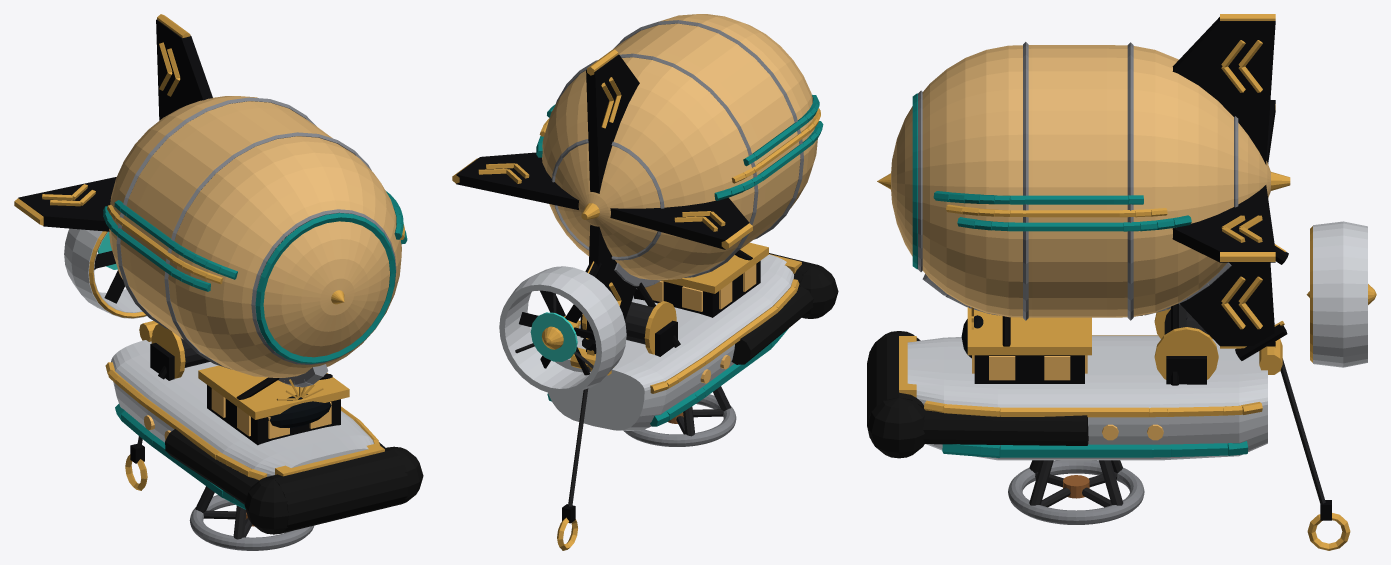
File: tug.obj
The picture shows the model from 3 angles, left to right: view 1: azimuth 30°, elevation 25°; view 2: azimuth 150°, elevation 25°; view 3: azimuth 270°, elevation 25°; orthographic projection. The views are drawn at different scales.
Visible parts, largest first — view 1: tug; view 2: tug; view 3: tug.
Boxes of the visible parts, x1,y1,x2,y2 form: tug: (14,14,423,550); tug: (452,14,838,550); tug: (867,14,1376,550).
Size of the model in its own units: 57.75 by 93 by 80.
Materials: 1 (1 with a texture image).
